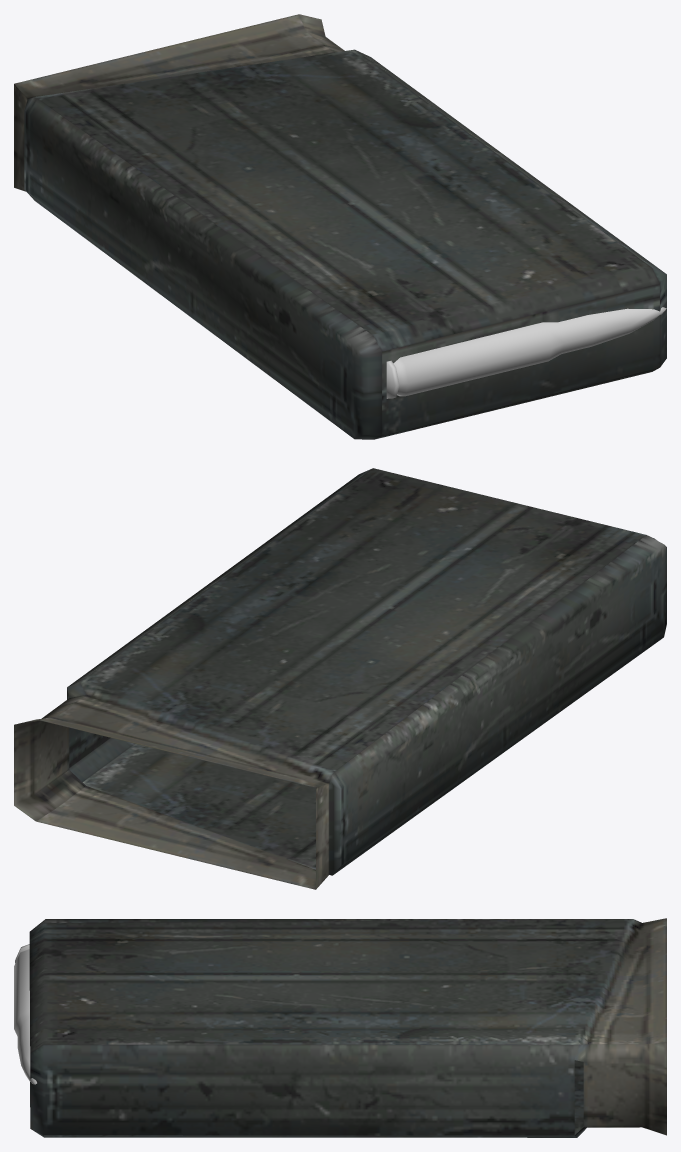
Rendered from t6_attach_mag_scar_view_LOD0.obj.
3 views of the same model, one above another, from view 1: azimuth 30°, elevation 25°; view 2: azimuth 150°, elevation 25°; view 3: azimuth 270°, elevation 25° (orthographic). The views are drawn at different scales.
Visible parts, largest first — view 1: mtl_t6_wpn_ar_scarh_camo1, mtl_t6_attach_bullet; view 2: mtl_t6_wpn_ar_scarh_camo1; view 3: mtl_t6_wpn_ar_scarh_camo1, mtl_t6_attach_bullet.
Part boxes in pixels (x1,y1,x2,y2): mtl_t6_wpn_ar_scarh_camo1: (14, 14, 666, 439); mtl_t6_attach_bullet: (386, 307, 666, 398); mtl_t6_wpn_ar_scarh_camo1: (14, 468, 666, 889); mtl_t6_wpn_ar_scarh_camo1: (29, 918, 666, 1137); mtl_t6_attach_bullet: (14, 944, 36, 1084).
Bounding box in the file's own units: 7.97 × 2.52 × 16.03.
